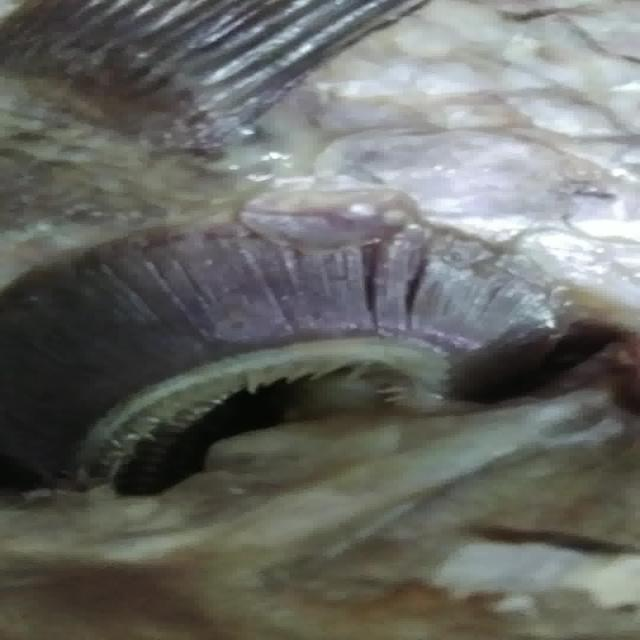Non-Fresh: (16, 190, 586, 469)
